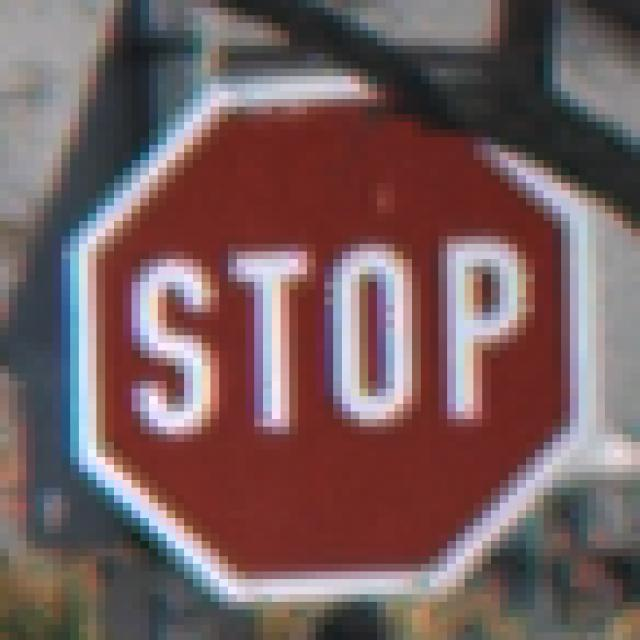stop: (52, 78, 595, 613)
